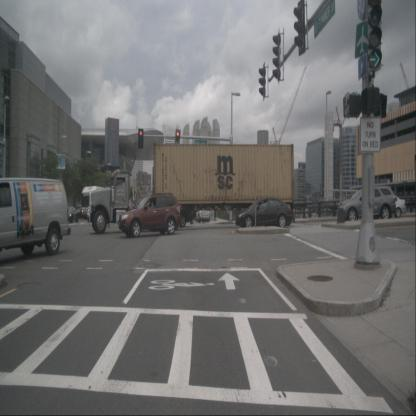vehicle-bus-rigid: (80, 185, 108, 220)
vehicle-car: (0, 176, 71, 258), (118, 192, 180, 235), (338, 183, 396, 220), (235, 200, 292, 228), (366, 194, 406, 218), (63, 205, 78, 224), (198, 206, 210, 222), (75, 204, 86, 219)
vehicle-truck: (87, 170, 138, 235)
